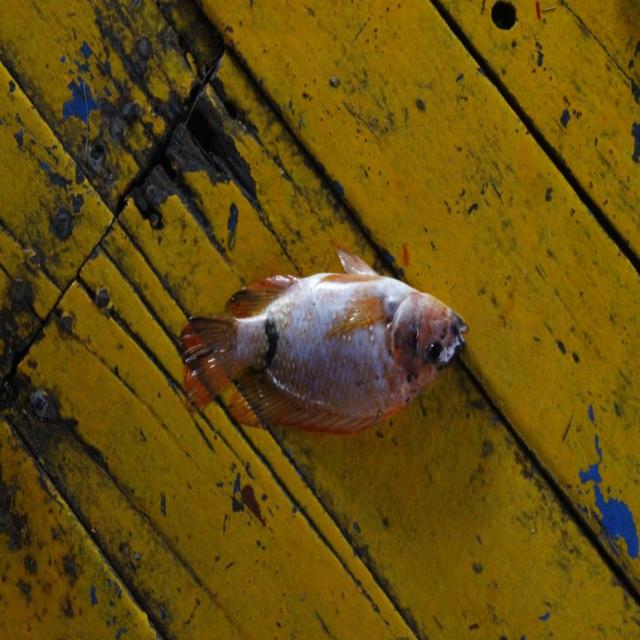ikan: (178, 244, 469, 436)
